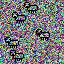sheep: (35, 28, 51, 41), (4, 36, 20, 49), (9, 49, 25, 61), (12, 11, 26, 24), (24, 2, 38, 13)
